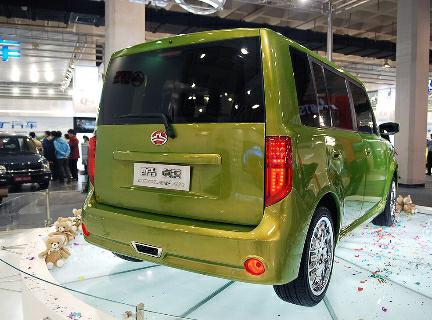长城-酷熊: (75, 26, 402, 306)
